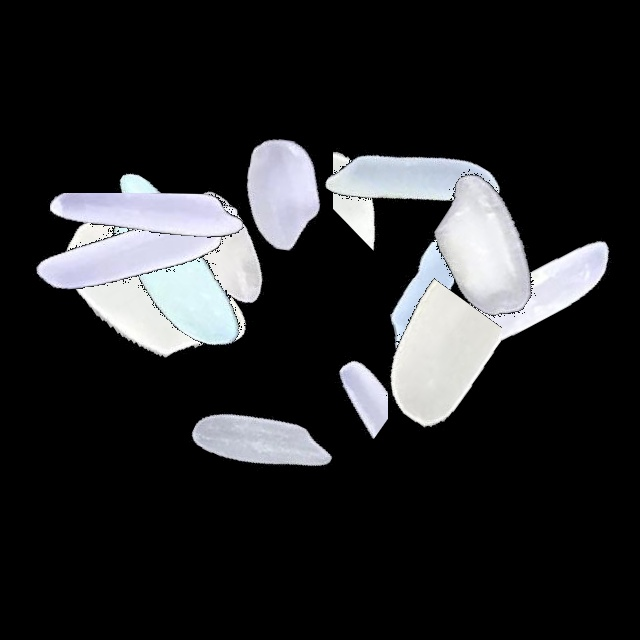Broken: (351, 241, 502, 491), (21, 193, 271, 338), (284, 277, 388, 527), (127, 325, 216, 575), (333, 68, 415, 318)
Full: (25, 164, 275, 414), (97, 128, 347, 378), (138, 319, 388, 569), (291, 58, 541, 308), (311, 163, 561, 413), (389, 183, 639, 433), (48, 138, 298, 388), (13, 121, 263, 371), (156, 70, 406, 320), (363, 125, 613, 375)
